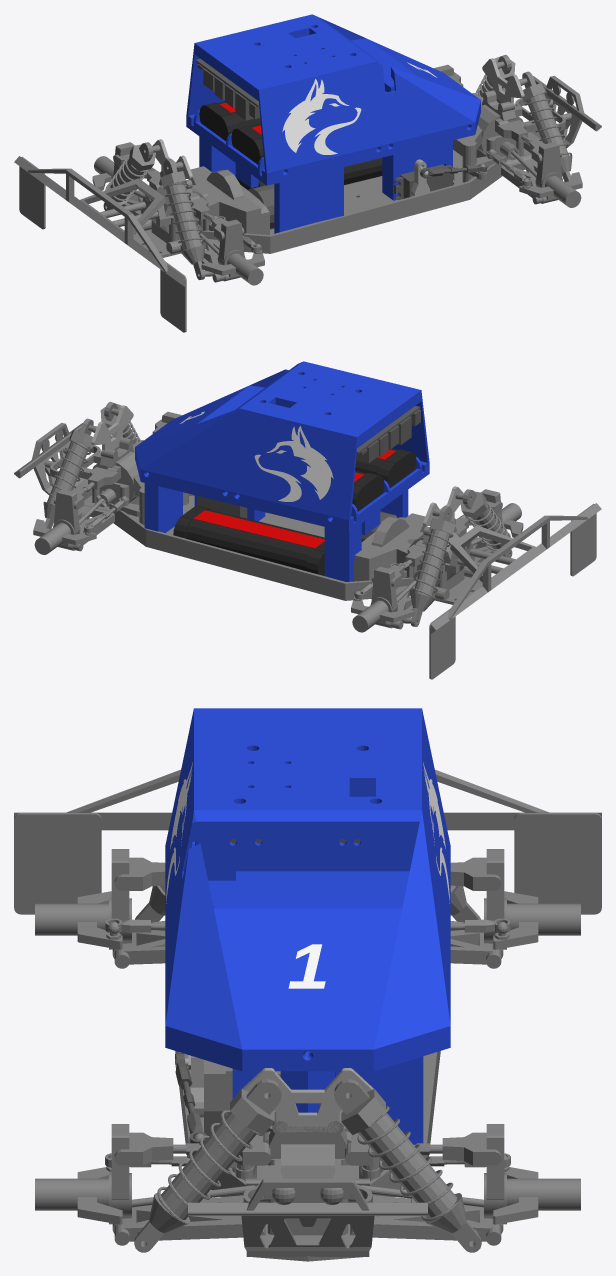
File: mushr_base_nano.dae
The picture shows the model from 3 angles, top to bottom: view 1: azimuth 30°, elevation 25°; view 2: azimuth 150°, elevation 25°; view 3: azimuth 270°, elevation 25°; orthographic projection. The views are drawn at different scales.
Visible parts, largest first — view 1: Racecar_Chassis, Racecar_Platform, Racecar_Back_Cover_Right_Image, Racecar_Jetson_Nano, Racecar_Spring_Plates, Racecar_Battery_Foundation_Left, Racecar_Servo_Motor_Body, Racecar_Battery_Foundation_Right, Racecar_Battery_Chassis, Racecar_Servo_Arm_Link, Racecar_Servo_Motor_Arm; view 2: Racecar_Chassis, Racecar_Platform, Racecar_Battery_Chassis, Racecar_Back_Cover_Left_Image, Racecar_Jetson_Nano, Racecar_Spring_Plates, Racecar_Battery_Foundation_Right, Racecar_Battery_Foundation_Left, Racecar_Servo_Motor_Body; view 3: Racecar_Platform, Racecar_Chassis, Racecar_Spring_Plates, Racecar_Servo_Motor_Body, Racecar_Servo_Arm_Link, Racecar_Front_Cover_Center_Number, Racecar_Servo_Motor_Arm.
Boxes of the visible parts, x1=… form: Racecar_Chassis: x1=14, y1=54, x2=601, y2=332; Racecar_Platform: x1=186, y1=14, x2=480, y2=233; Racecar_Back_Cover_Right_Image: x1=282, y1=79, x2=361, y2=154; Racecar_Jetson_Nano: x1=195, y1=59, x2=260, y2=120; Racecar_Spring_Plates: x1=152, y1=58, x2=524, y2=179; Racecar_Battery_Foundation_Left: x1=199, y1=101, x2=260, y2=140; Racecar_Servo_Motor_Body: x1=394, y1=164, x2=454, y2=200; Racecar_Battery_Foundation_Right: x1=231, y1=124, x2=263, y2=164; Racecar_Battery_Chassis: x1=236, y1=157, x2=382, y2=189; Racecar_Servo_Arm_Link: x1=420, y1=164, x2=487, y2=178; Racecar_Servo_Motor_Arm: x1=411, y1=159, x2=430, y2=196; Racecar_Chassis: x1=14, y1=401, x2=601, y2=679; Racecar_Platform: x1=135, y1=361, x2=429, y2=581; Racecar_Battery_Chassis: x1=173, y1=505, x2=324, y2=575; Racecar_Back_Cover_Left_Image: x1=254, y1=426, x2=333, y2=501; Racecar_Jetson_Nano: x1=356, y1=406, x2=420, y2=462; Racecar_Spring_Plates: x1=91, y1=405, x2=463, y2=526; Racecar_Battery_Foundation_Right: x1=355, y1=448, x2=416, y2=487; Racecar_Battery_Foundation_Left: x1=352, y1=470, x2=384, y2=511; Racecar_Servo_Motor_Body: x1=197, y1=495, x2=247, y2=518; Racecar_Platform: x1=165, y1=708, x2=450, y2=1144; Racecar_Chassis: x1=14, y1=769, x2=601, y2=1261; Racecar_Spring_Plates: x1=242, y1=1068, x2=373, y2=1132; Racecar_Servo_Motor_Body: x1=204, y1=1071, x2=280, y2=1135; Racecar_Servo_Arm_Link: x1=175, y1=1053, x2=206, y2=1144; Racecar_Front_Cover_Center_Number: x1=288, y1=944, x2=325, y2=988; Racecar_Servo_Motor_Arm: x1=175, y1=1055, x2=203, y2=1117.
Size of the model in its own units: 0.4399 by 0.268 by 0.1572.
